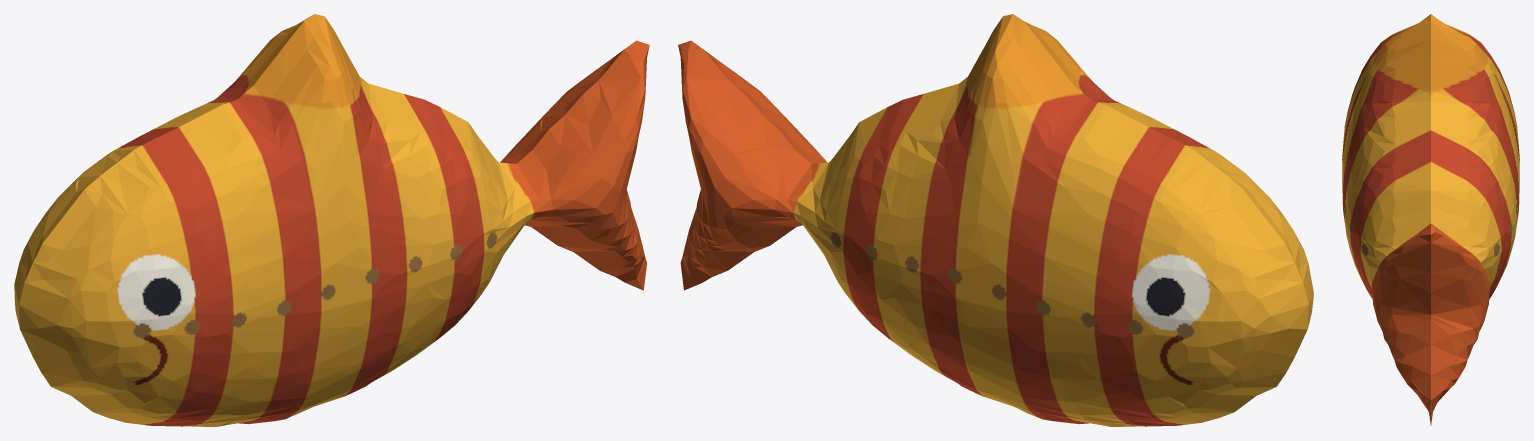
File: remesh_1600.glb
The picture shows the model from 3 angles, left to right: view 1: azimuth 30°, elevation 25°; view 2: azimuth 150°, elevation 25°; view 3: azimuth 270°, elevation 25°; orthographic projection. The views are drawn at different scales.
Visible parts, largest first — view 1: world; view 2: world; view 3: world.
Boxes of the visible parts, left/top/right/bottom form: world: left=14, top=14, right=649, bottom=426; world: left=678, top=14, right=1313, bottom=426; world: left=1342, top=14, right=1519, bottom=425.
Size of the model in its own units: 0.3342 by 0.2 by 0.1023.
1 material, 1 textured.
